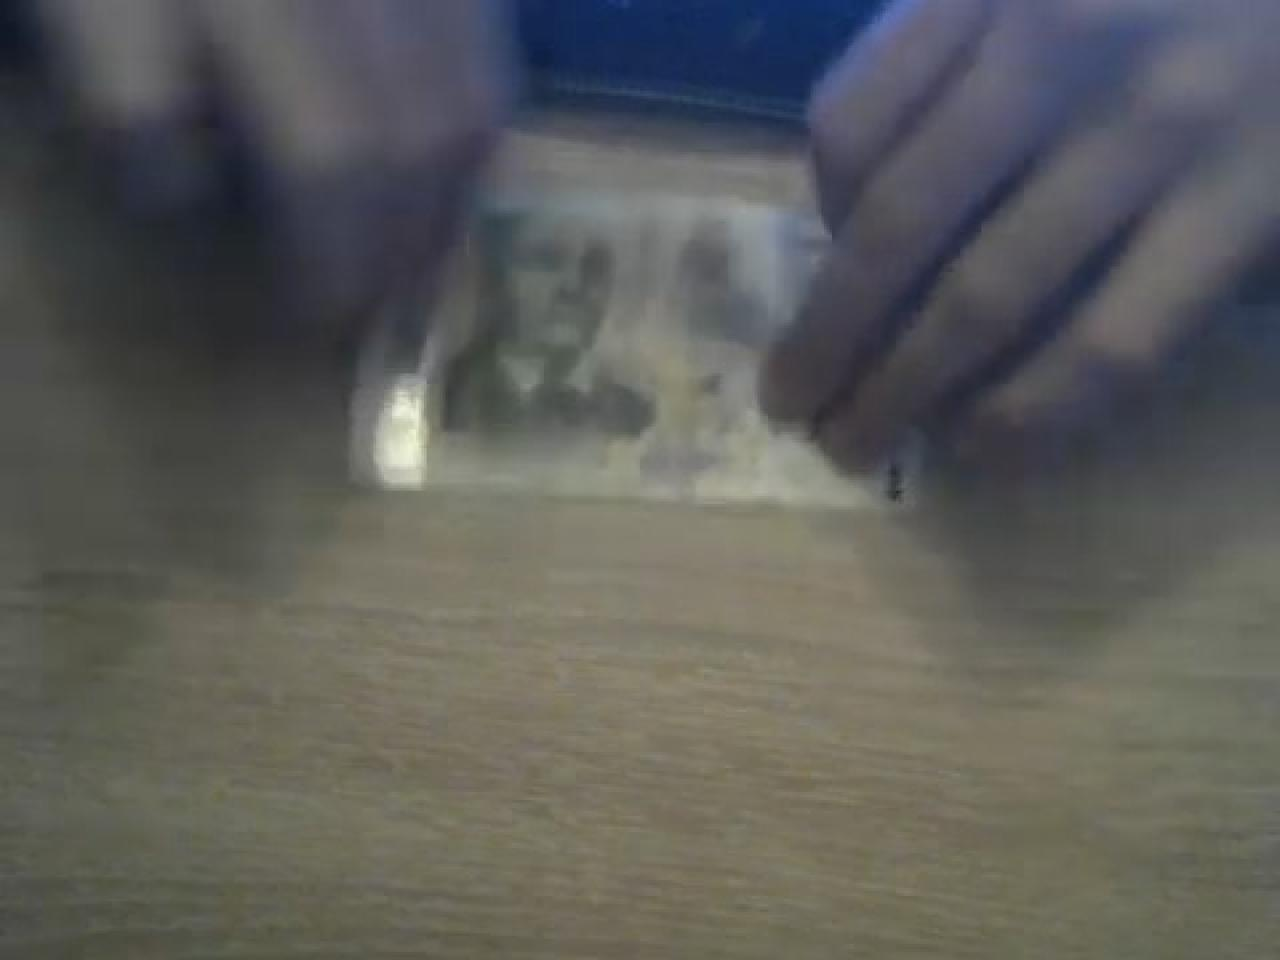10leva: (426, 203, 765, 499)
